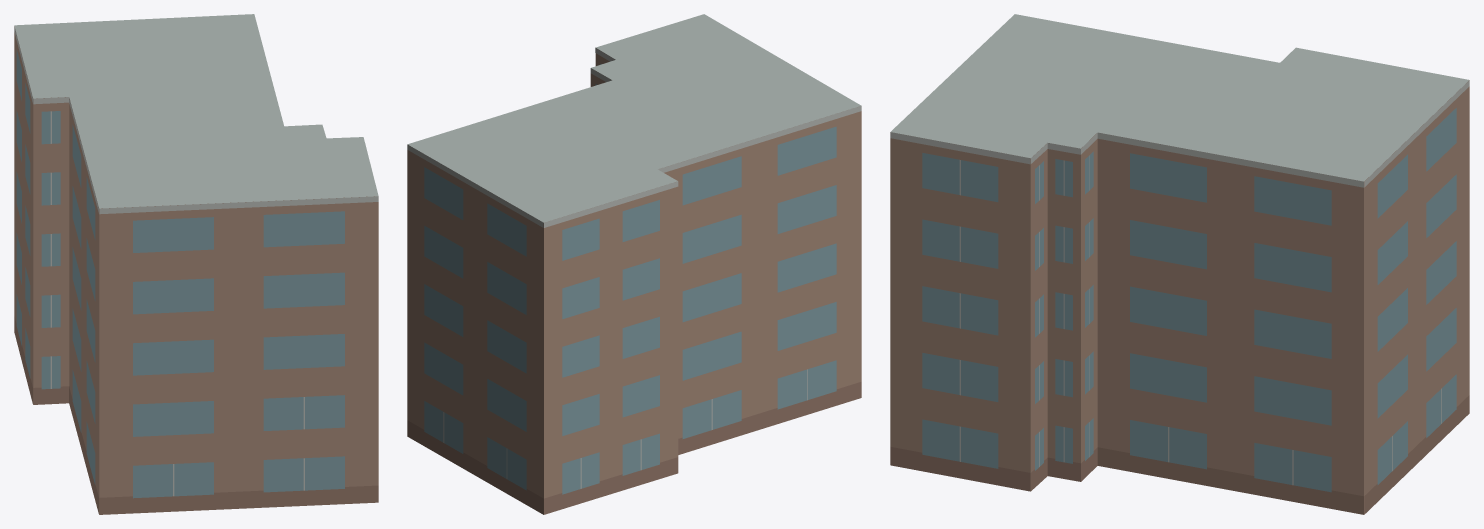
Rendered from survey-upis-32953343.glb.
3 views of the same model, side by side, from view 1: azimuth 30°, elevation 25°; view 2: azimuth 150°, elevation 25°; view 3: azimuth 270°, elevation 25° (orthographic). The views are drawn at different scales.
Visible parts, largest first — view 1: survey-upis-32953343.tmp; view 2: survey-upis-32953343.tmp; view 3: survey-upis-32953343.tmp.
Part boxes in pixels (x1,y1,x2,y2): survey-upis-32953343.tmp: (14,14,378,514); survey-upis-32953343.tmp: (407,14,861,514); survey-upis-32953343.tmp: (890,14,1469,514).
Bounding box in the file's own units: 14.25 × 13.2 × 20.81.
